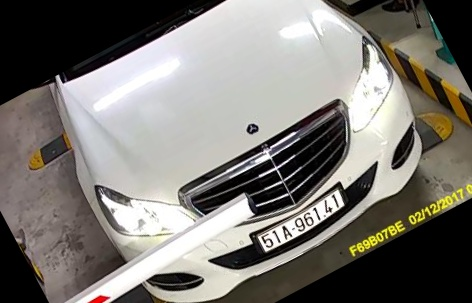plate: (252, 190, 349, 256)
